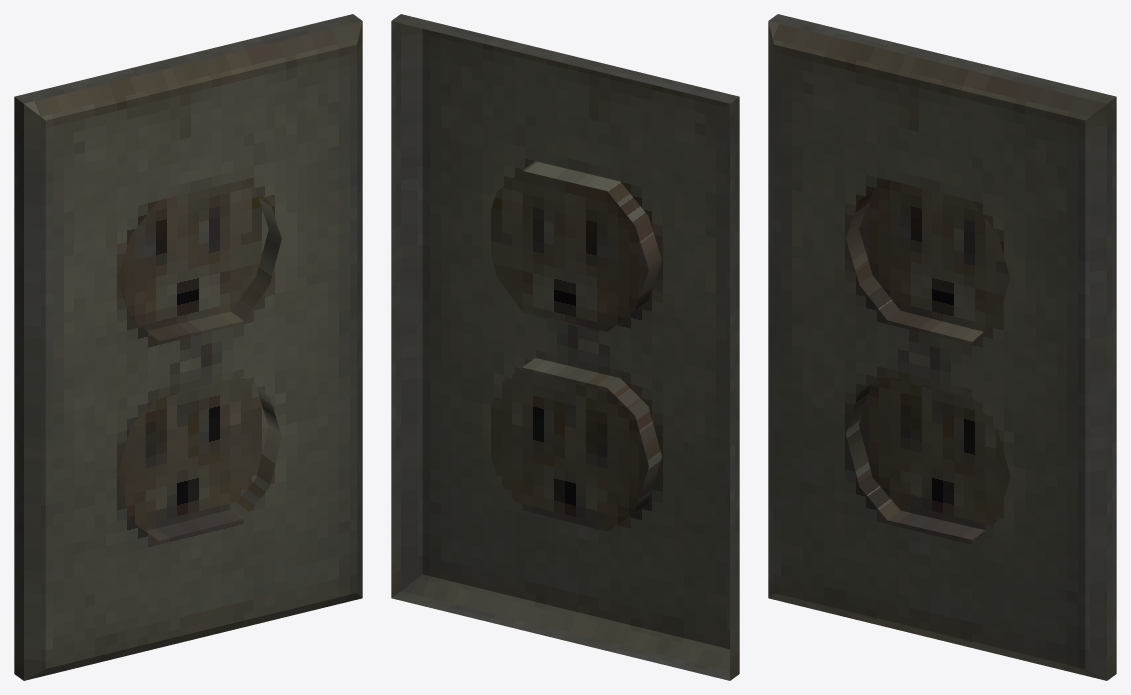
Rendered from electrical_outlet_1.fbx.
The picture shows the model from 3 angles, left to right: view 1: azimuth 30°, elevation 25°; view 2: azimuth 150°, elevation 25°; view 3: azimuth 330°, elevation 25°; orthographic projection.
Parts seen in each view (by area): view 1: electrical_outlet_1; view 2: electrical_outlet_1; view 3: electrical_outlet_1.
Boxes of the visible parts, bbox=[...] form: electrical_outlet_1: bbox=[14, 14, 362, 680]; electrical_outlet_1: bbox=[391, 14, 739, 680]; electrical_outlet_1: bbox=[768, 14, 1116, 680].
Size of the model in its own units: 0.1113 by 0.01 by 0.1812.
